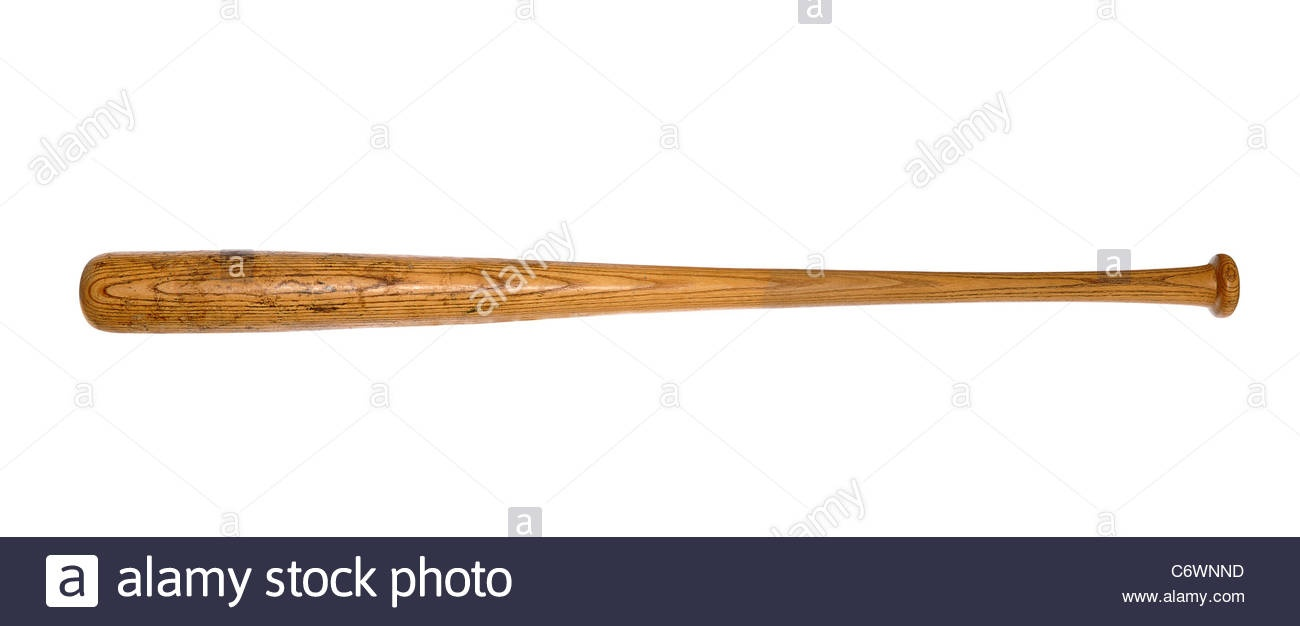bita: (74, 245, 1249, 338)
